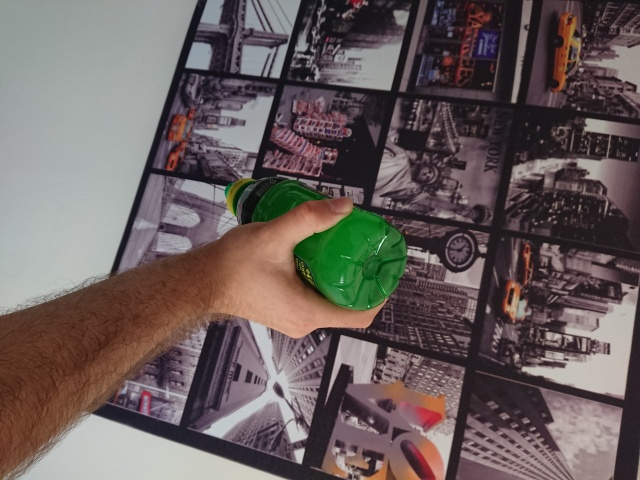Vindi Iso Sport Lemon-Grapefruit 500mL: (222, 174, 411, 314)
